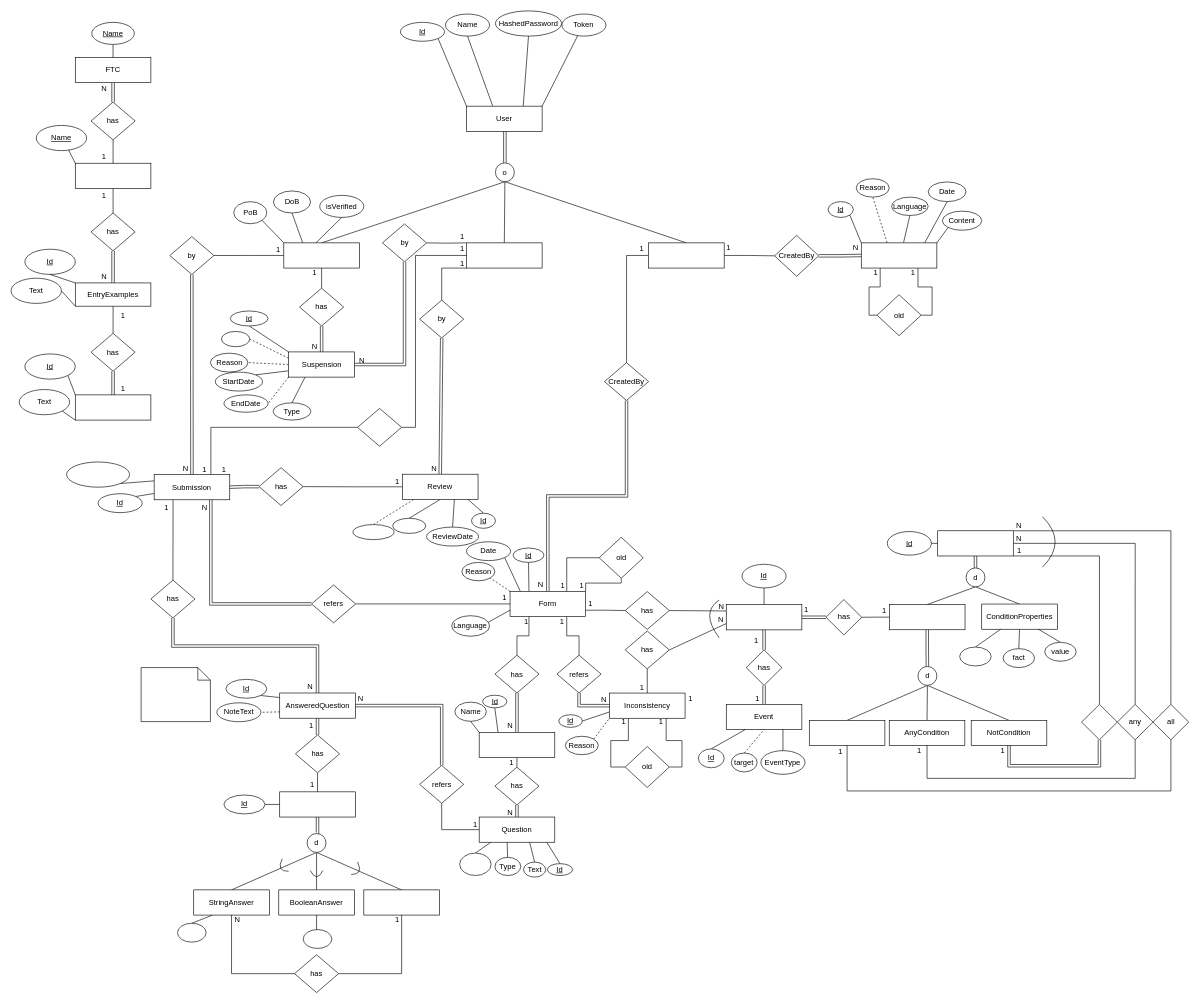
Some shapes in this 1200 by 1004 pixel diagram are drawn without their labels. The box of each missing label's shape, as (x1, y1, x2, y2) in pixels:
Admin: (648, 242, 724, 268)
AllCondition: (809, 720, 885, 746)
Answer: (279, 791, 355, 817)
boolean: (303, 929, 332, 948)
Criteria: (75, 394, 151, 420)
Doctor: (466, 242, 542, 268)
Donor: (283, 242, 359, 268)
FinalNote: (352, 524, 394, 540)
lockedBy: (357, 408, 402, 446)
ManualEntry: (75, 163, 151, 188)
NestedCondition: (937, 530, 1013, 556)
not: (1081, 704, 1117, 740)
Note: (221, 331, 250, 347)
NoteText only exists if a Review exists for that Submission: (140, 667, 210, 722)
operator: (959, 646, 991, 666)
Options: (459, 852, 491, 876)
QuestionGroup: (479, 732, 555, 758)
Rule: (726, 604, 802, 630)
Status: (392, 518, 426, 533)
string: (177, 923, 206, 942)
StringListAnswer: (363, 889, 439, 915)
SubmissionDate: (66, 461, 130, 487)
Terms: (861, 242, 937, 268)
TopLevelCondition: (889, 604, 965, 630)
